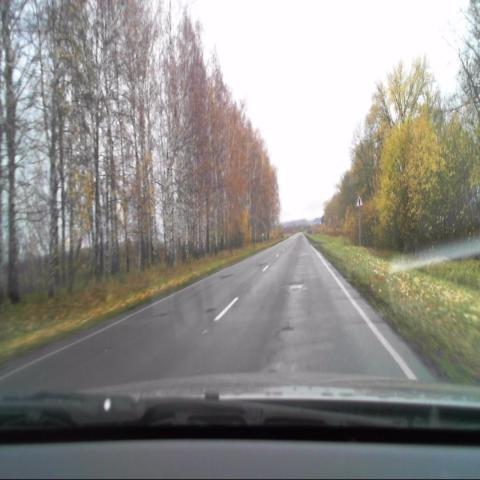2_3_3: (354, 193, 364, 208)
